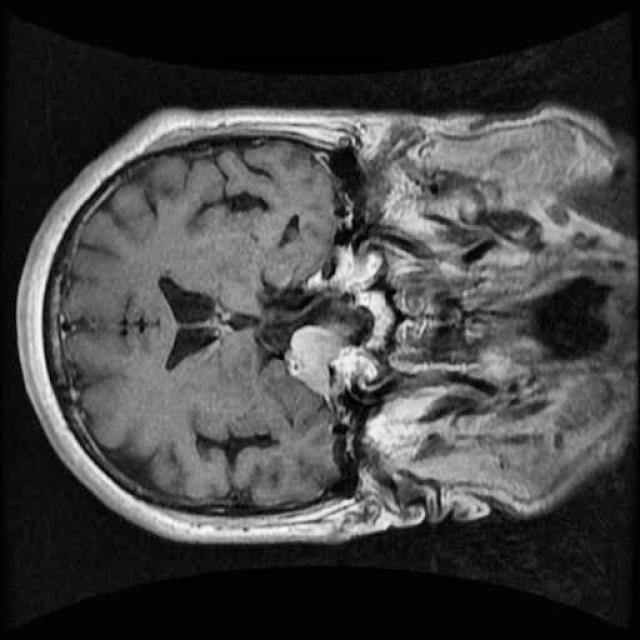Tumor: (276, 312, 365, 418)
